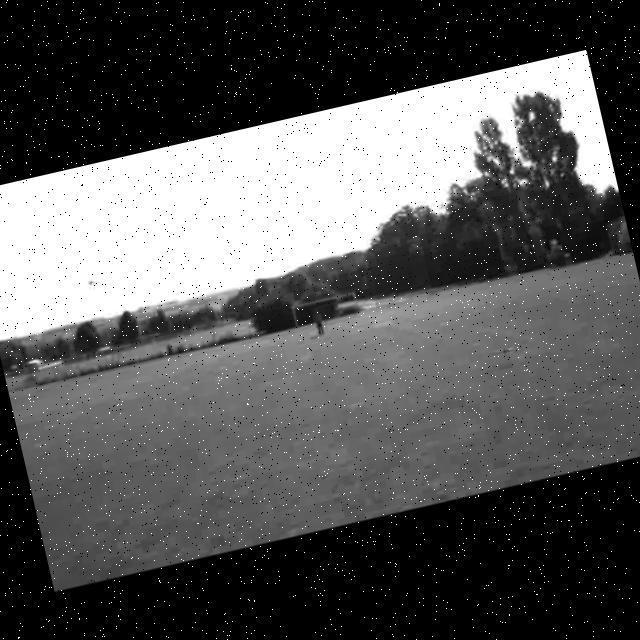Drons: (474, 332, 526, 368), (75, 268, 112, 298)
